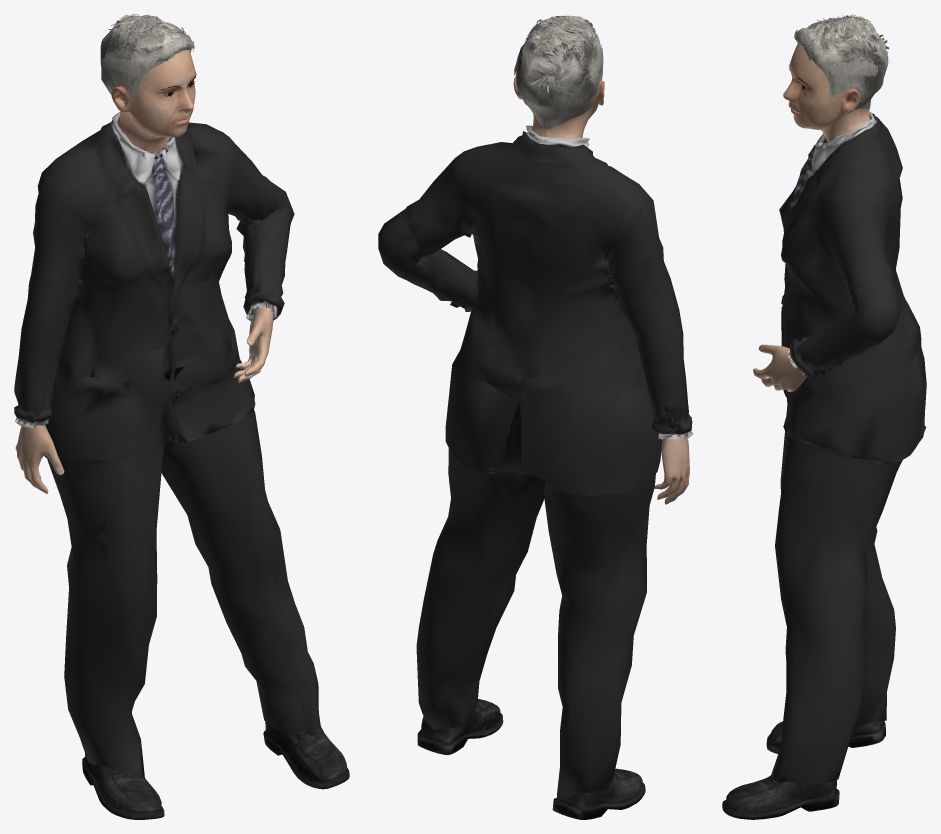
File: harper.glb
The picture shows the model from 3 angles, left to right: view 1: azimuth 30°, elevation 25°; view 2: azimuth 150°, elevation 25°; view 3: azimuth 270°, elevation 25°; orthographic projection. The views are drawn at different scales.
Parts seen in each view (by area): view 1: male_elegantsuit01, Harper | anatomical body, shoes04, short01; view 2: male_elegantsuit01, short01, shoes04, Harper | anatomical body; view 3: male_elegantsuit01, Harper | anatomical body, short01, shoes04.
Boxes of the visible parts, box(x1,y1,x2,y2) form: male_elegantsuit01: box(14, 112, 320, 779); Harper | anatomical body: box(15, 50, 273, 493); shoes04: box(82, 721, 349, 819); short01: box(100, 14, 194, 98); male_elegantsuit01: box(378, 125, 693, 797); short01: box(514, 14, 603, 128); shoes04: box(417, 699, 645, 819); Harper | anatomical body: box(513, 75, 689, 504); male_elegantsuit01: box(770, 110, 926, 785); Harper | anatomical body: box(753, 44, 870, 391); short01: box(794, 14, 890, 109); shoes04: box(722, 721, 885, 819).
Size of the model in its own units: 0.6572 by 1.68 by 0.4195.
Materials: 7 (7 with a texture image).
